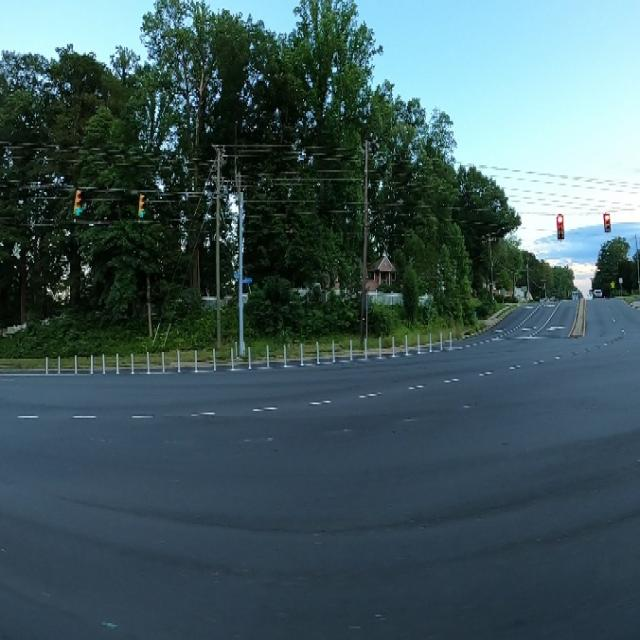cars: (593, 286, 603, 302)
